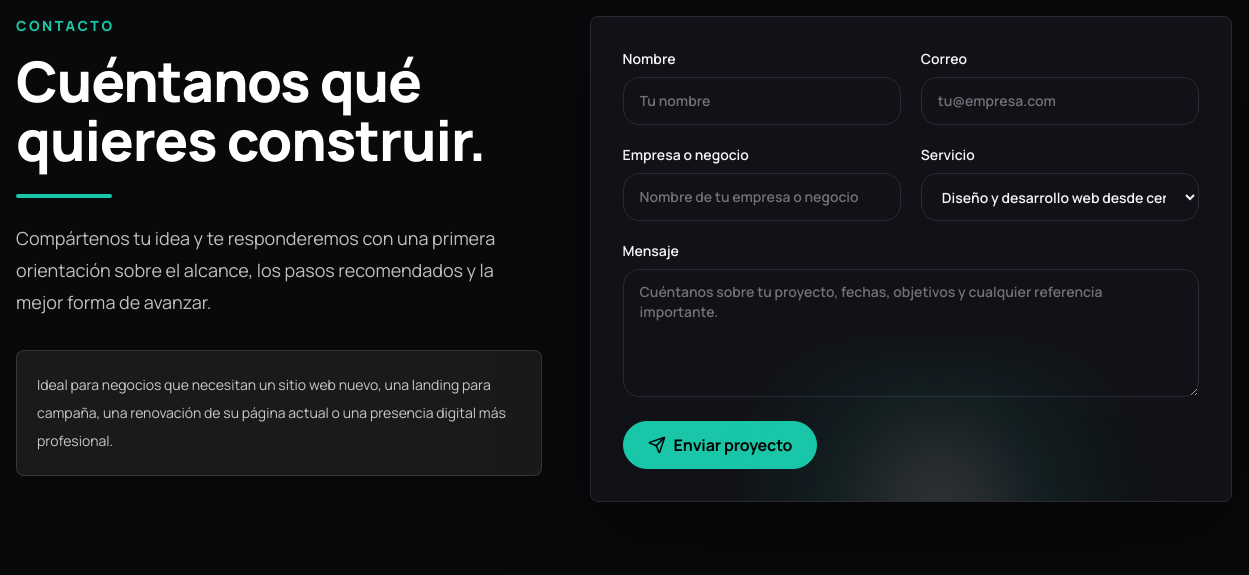
it: ContactForm › validates required fields before submitting
Step 1. Click the button "Enviar proyecto" → (720, 445), box [623, 421, 817, 469]
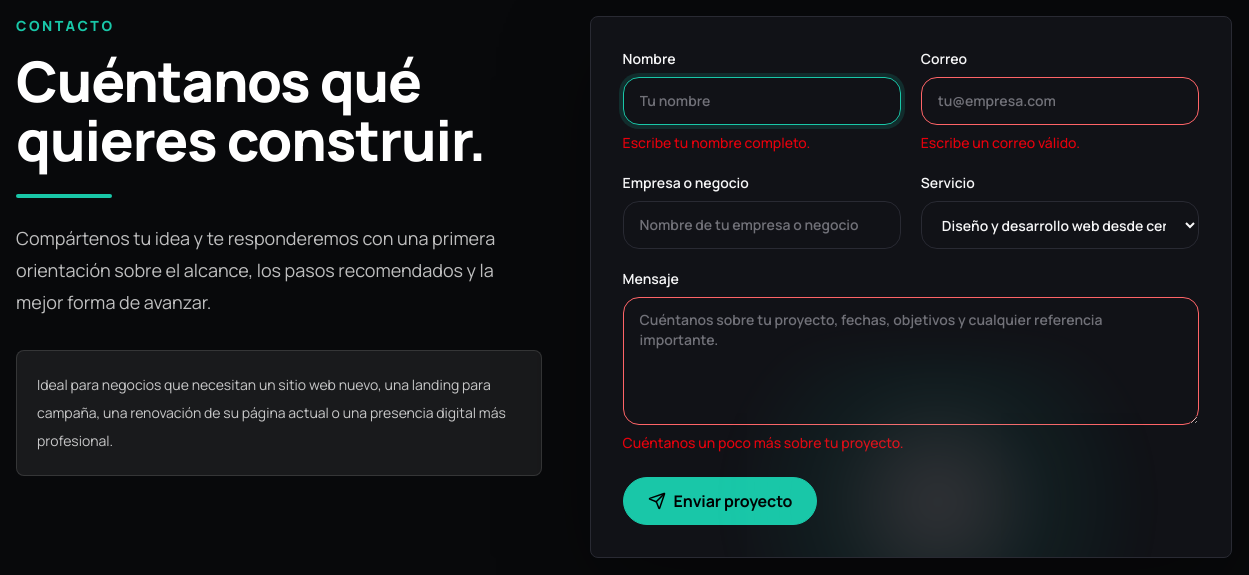
Now the text "Escribe tu nombre completo." is shown, box [623, 133, 810, 152]
Now the text "Escribe un correo válido." is shown, box [921, 133, 1080, 152]
Now the text "Cuéntanos un poco más sobre tu proyecto." is shown, box [623, 433, 904, 452]
